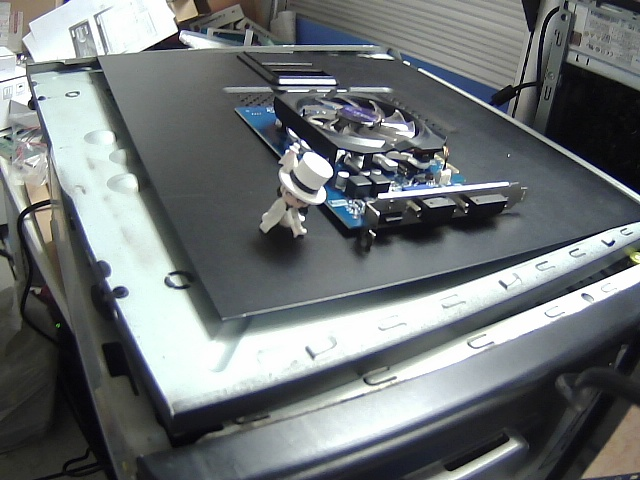lucci: (251, 140, 342, 252)
